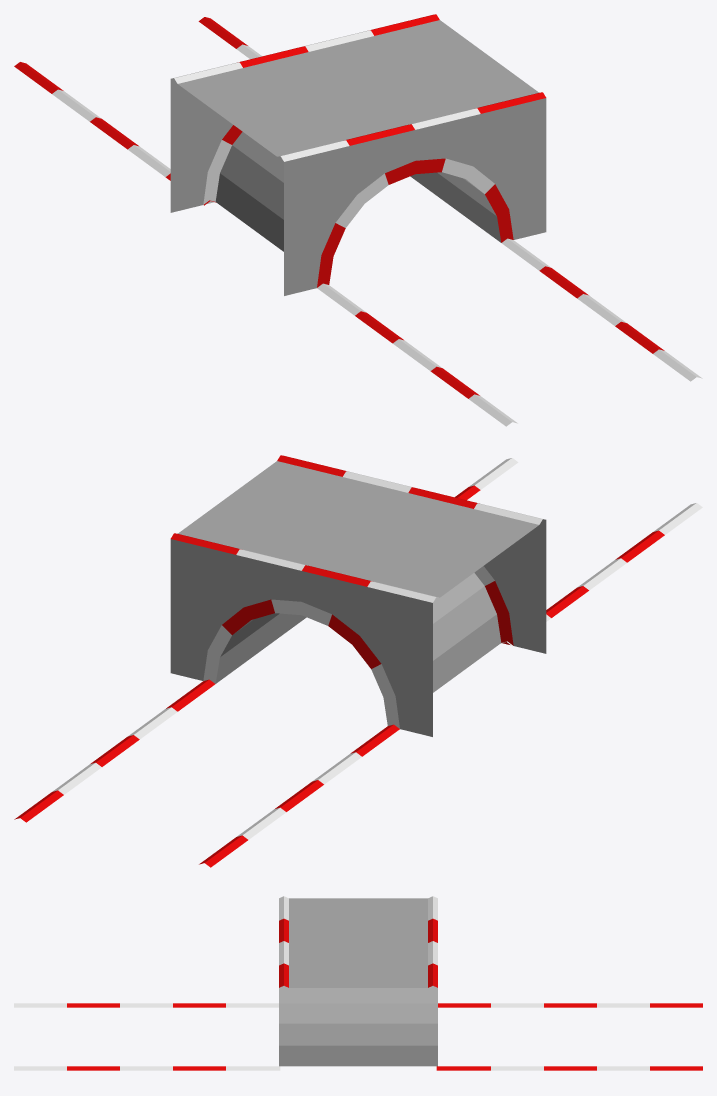
The model's file is Road_tunel_02.fbx.
3 views of the same model, one above another, from view 1: azimuth 30°, elevation 25°; view 2: azimuth 150°, elevation 25°; view 3: azimuth 270°, elevation 25° (orthographic). The views are drawn at different scales.
Parts seen in each view (by area): view 1: Road_tunel_02; view 2: Road_tunel_02; view 3: Road_tunel_02.
Boxes of the visible parts, <box> form: Road_tunel_02: <box>14,14,702,426</box>; Road_tunel_02: <box>14,455,702,867</box>; Road_tunel_02: <box>14,896,702,1070</box>.
Bounding box in the file's own units: 3.77 × 1.89 × 12.26.
